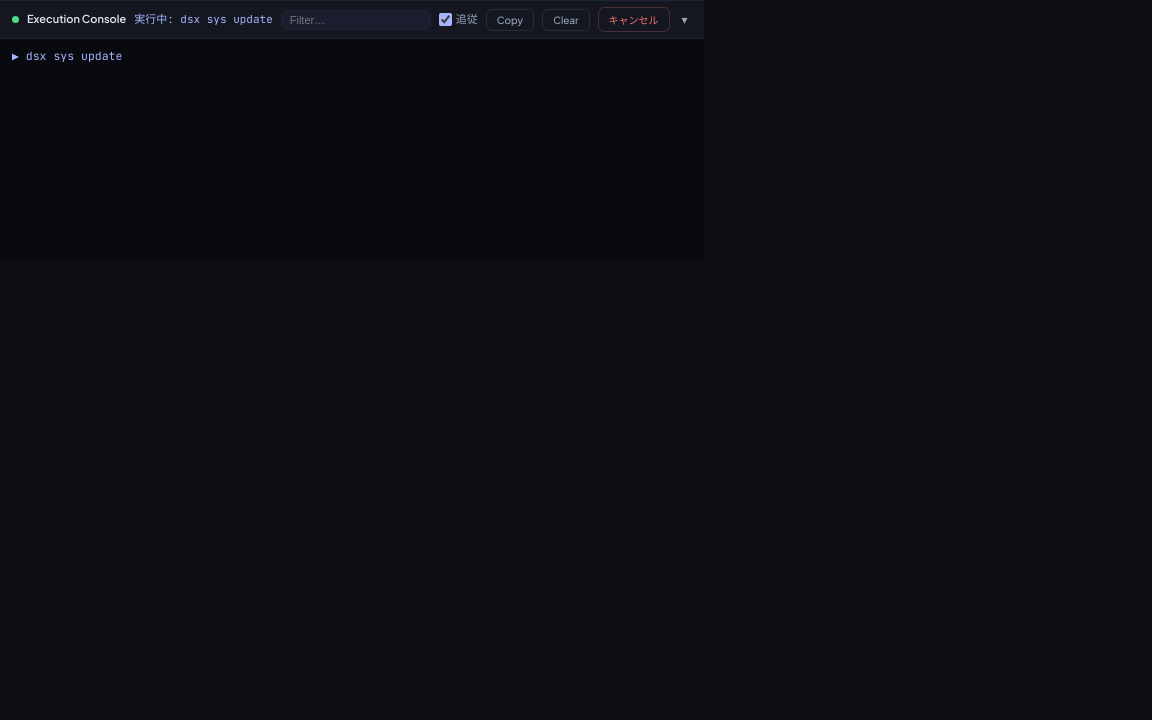
Test: LogConsole — キャンセル › 確認ダイアログで承認すると、実行中の run をキャンセルする
Click the button "キャンセル" at [634, 20], box [598,7,670,32]
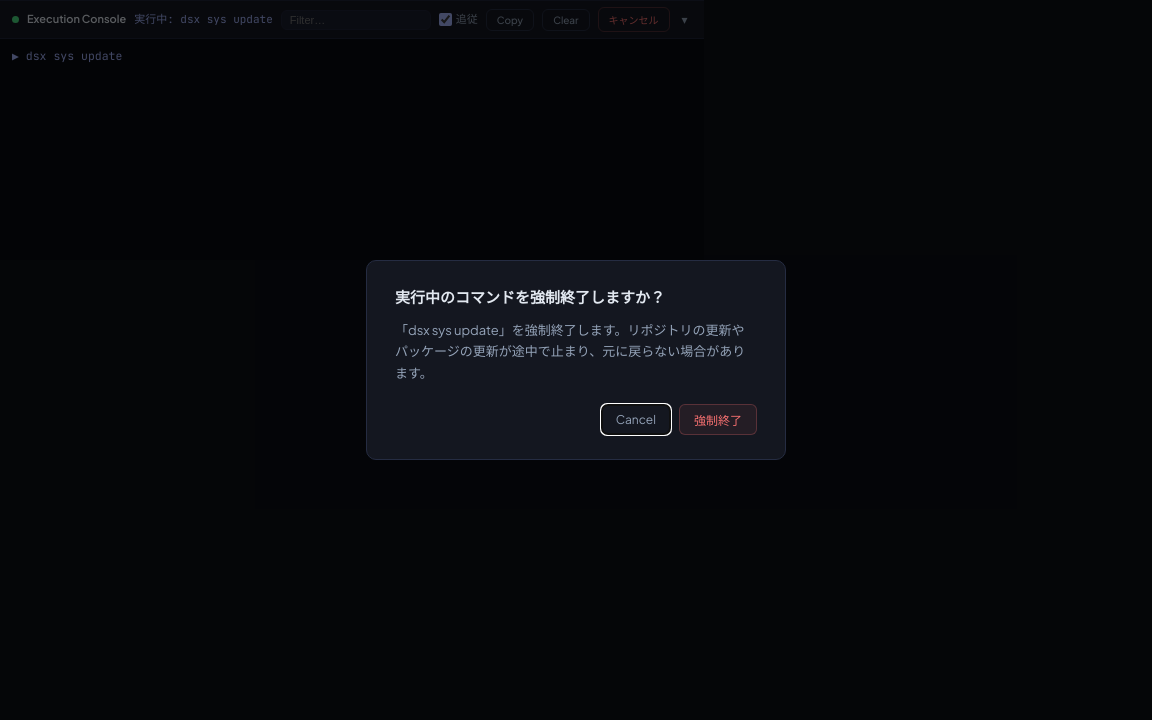
Expected: the dialog shows "dsx sys update", [395,322,745,381]
Click the button "強制終了" at [718, 420], box [679,404,757,435]
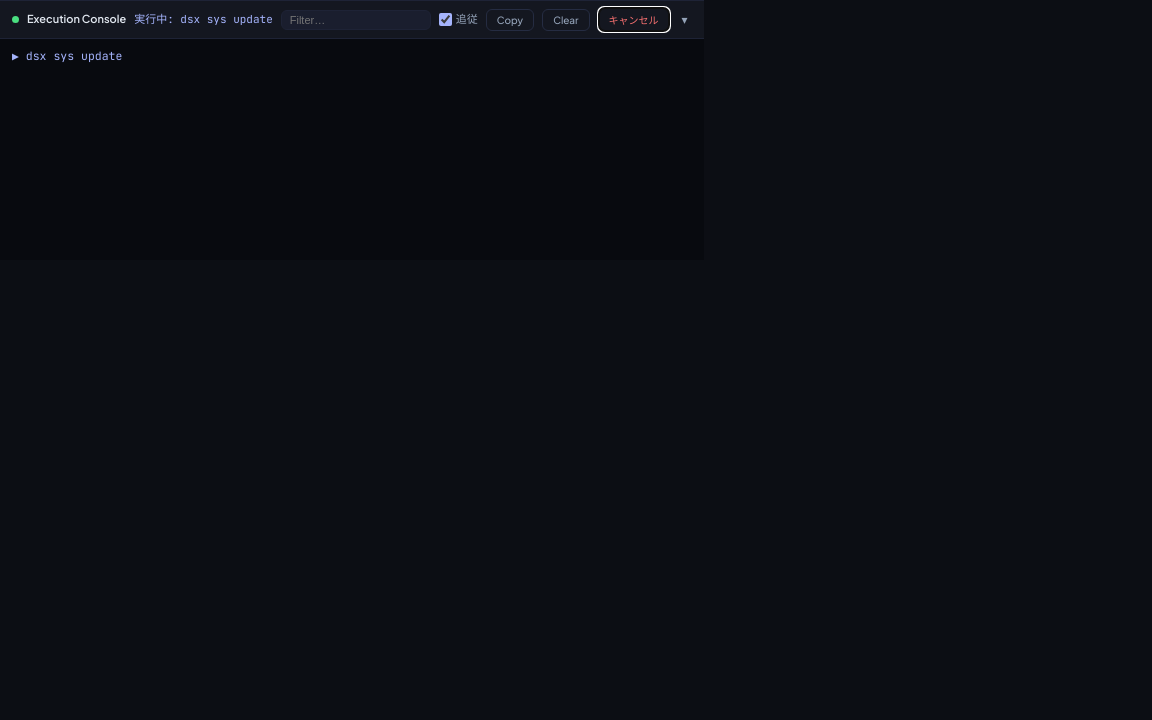
Expected: the dialog is gone
